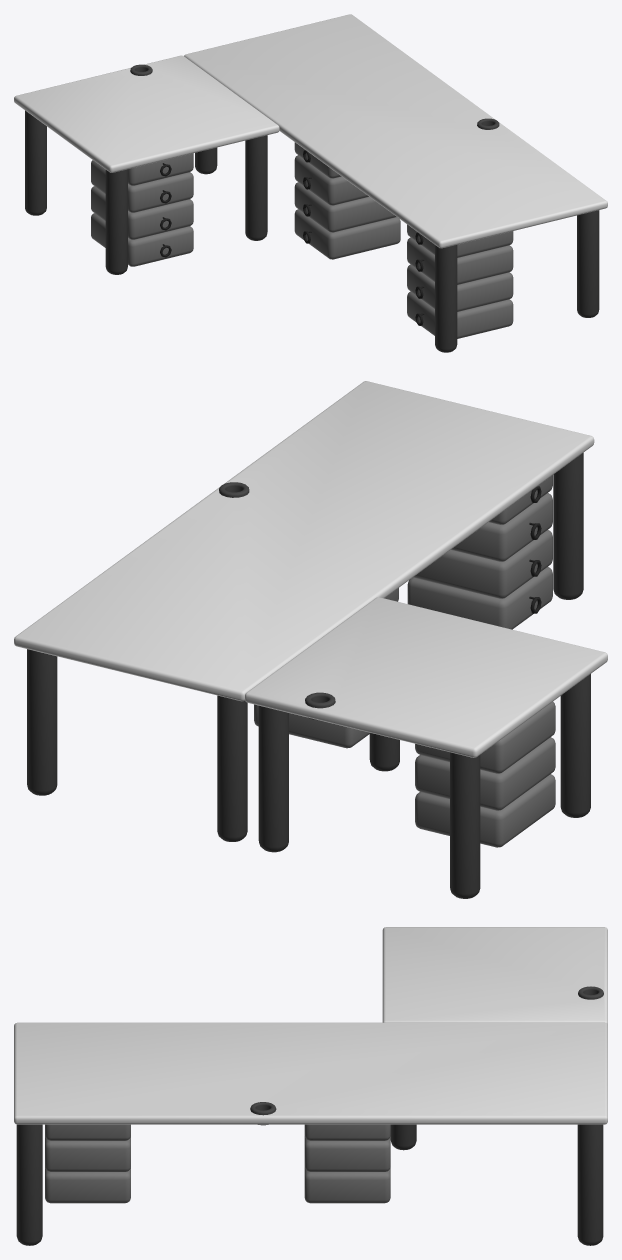
File: Work Desk Big01.fbx
3 views of the same model, one above another, from view 1: azimuth 30°, elevation 25°; view 2: azimuth 150°, elevation 25°; view 3: azimuth 270°, elevation 25° (orthographic). The views are drawn at different scales.
Parts seen in each view (by area): view 1: Work Desk Big01; view 2: Work Desk Big01; view 3: Work Desk Big01.
Part boxes in pixels (x1=…): Work Desk Big01: x1=14, y1=14, x2=607, y2=352; Work Desk Big01: x1=14, y1=381, x2=607, y2=898; Work Desk Big01: x1=14, y1=927, x2=607, y2=1245.
Bounding box in the file's own units: 1.78 × 2.35 × 0.5969.
